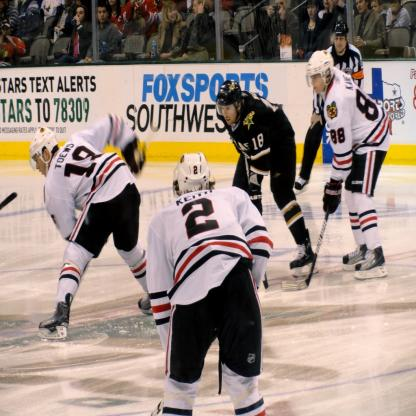Helmet: (172, 151, 211, 198), (29, 126, 59, 180), (216, 78, 249, 124), (305, 49, 333, 96), (332, 21, 350, 56)
